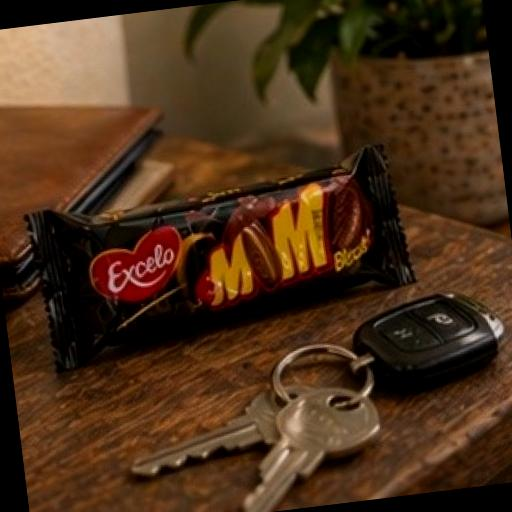MOMO: (0, 106, 439, 399)
